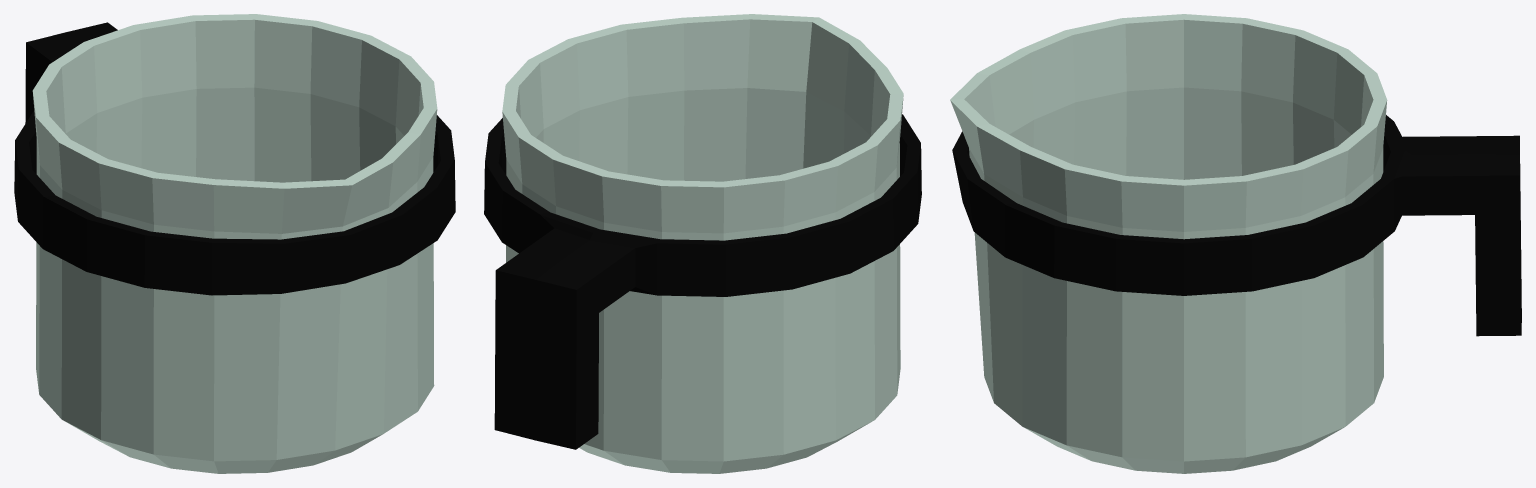
Rendered from GameAsset_CoffeePot_v02.fbx.
The picture shows the model from 3 angles, left to right: view 1: azimuth 30°, elevation 25°; view 2: azimuth 150°, elevation 25°; view 3: azimuth 270°, elevation 25°; orthographic projection.
Visible parts, largest first — view 1: coffee jug; view 2: coffee jug; view 3: coffee jug.
Boxes of the visible parts, left/top/right/bottom form: coffee jug: left=14, top=14, right=455, bottom=473; coffee jug: left=484, top=14, right=921, bottom=473; coffee jug: left=950, top=14, right=1521, bottom=473.
Size of the model in its own units: 33.02 by 25.37 by 42.62.
